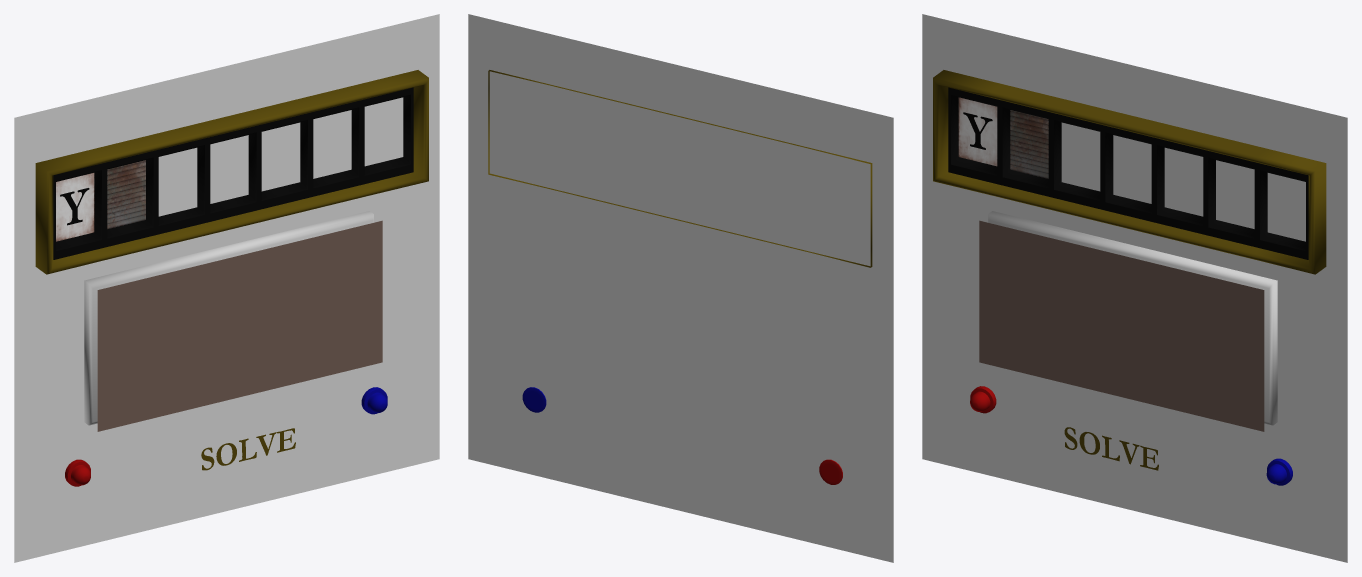
The model's file is Cipher Puzzle_P2_Whole Box without plane.FBX.
3 renders of one model, left to right at view 1: azimuth 30°, elevation 25°; view 2: azimuth 150°, elevation 25°; view 3: azimuth 330°, elevation 25°, orthographic.
Parts seen in each view (by area): view 1: Display Plane, Cipher Hint Display, Letter Slot Frame, Cipher Hint Display Back, NO Letter Texture Plane, Letter Texture Plane, Cipher Hint Display001, Diode 004, Diode 003; view 2: Display Plane, Letter Slot Frame; view 3: Display Plane, Cipher Hint Display, Letter Slot Frame, Cipher Hint Display Back, NO Letter Texture Plane, Letter Texture Plane, Cipher Hint Display001, Diode 003, Diode 004.
Boxes of the visible parts, x1,y1,x2,y2 form: Display Plane: (14, 14, 439, 562); Cipher Hint Display: (97, 220, 382, 431); Letter Slot Frame: (35, 70, 428, 274); Cipher Hint Display Back: (84, 211, 373, 425); NO Letter Texture Plane: (107, 160, 145, 228); Letter Texture Plane: (56, 173, 94, 241); Cipher Hint Display001: (201, 428, 295, 470); Diode 004: (361, 387, 387, 414); Diode 003: (65, 459, 90, 486); Display Plane: (468, 14, 893, 562); Letter Slot Frame: (488, 70, 872, 267); Display Plane: (922, 14, 1347, 562); Cipher Hint Display: (979, 220, 1264, 431); Letter Slot Frame: (933, 70, 1326, 274); Cipher Hint Display Back: (988, 211, 1277, 425); NO Letter Texture Plane: (1010, 110, 1048, 178); Letter Texture Plane: (958, 97, 997, 166); Cipher Hint Display001: (1064, 427, 1158, 470); Diode 003: (970, 386, 996, 413); Diode 004: (1266, 458, 1292, 485).
Bounding box in the file's own units: 118 × 118 × 11.53.
